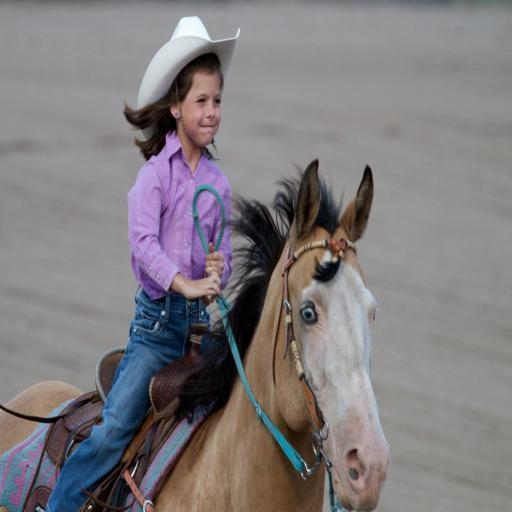horse: (0, 158, 393, 512)
